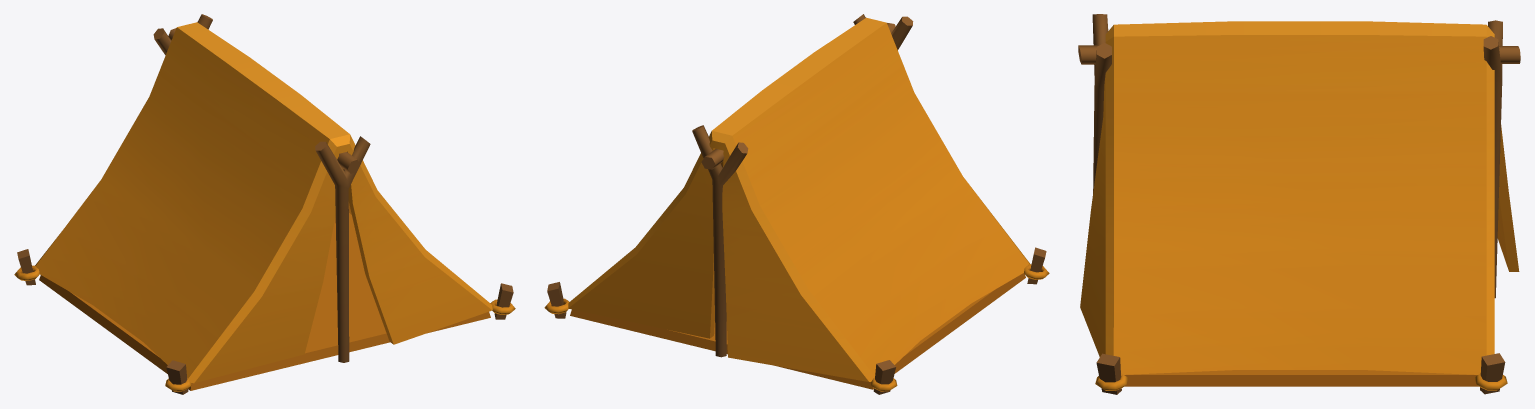
File: SM_Tent_B.fbx
The picture shows the model from 3 angles, left to right: view 1: azimuth 30°, elevation 25°; view 2: azimuth 150°, elevation 25°; view 3: azimuth 270°, elevation 25°; orthographic projection. The views are drawn at different scales.
Parts seen in each view (by area): view 1: SM_Tent_B; view 2: SM_Tent_B; view 3: SM_Tent_B.
Part boxes in pixels (x1,y1,x2,y2): SM_Tent_B: [14, 14, 515, 394]; SM_Tent_B: [544, 14, 1049, 394]; SM_Tent_B: [1078, 14, 1520, 394].
Size of the model in its own units: 262 by 162 by 240.
